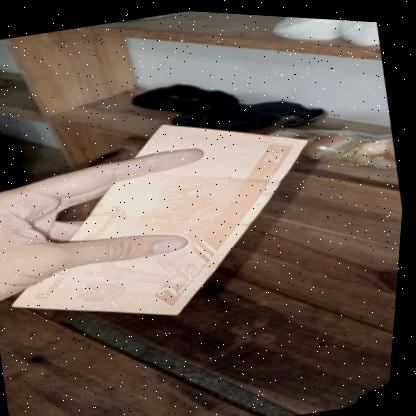vef_back: (0, 82, 344, 353)
